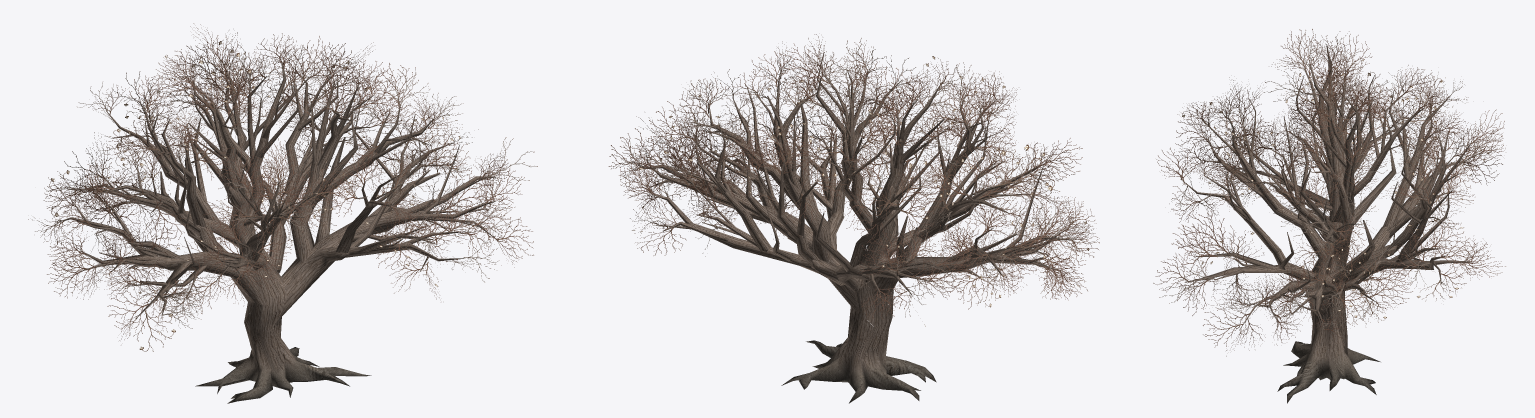
File: Triadica_Winter_LOD2.glb
The picture shows the model from 3 angles, left to right: view 1: azimuth 30°, elevation 25°; view 2: azimuth 150°, elevation 25°; view 3: azimuth 270°, elevation 25°; orthographic projection. The views are drawn at different scales.
Visible parts, largest first — view 1: Triadica_Winter_Shoots_LOD2, Triadica_Wood_LOD2; view 2: Triadica_Winter_Shoots_LOD2, Triadica_Wood_LOD2; view 3: Triadica_Winter_Shoots_LOD2, Triadica_Wood_LOD2.
Part boxes in pixels (x1=…): Triadica_Winter_Shoots_LOD2: x1=28, y1=23, x2=537, y2=351; Triadica_Wood_LOD2: x1=56, y1=59, x2=498, y2=403; Triadica_Winter_Shoots_LOD2: x1=608, y1=34, x2=1099, y2=326; Triadica_Wood_LOD2: x1=643, y1=54, x2=1076, y2=403; Triadica_Winter_Shoots_LOD2: x1=1153, y1=29, x2=1505, y2=356; Triadica_Wood_LOD2: x1=1180, y1=44, x2=1480, y2=403.
Size of the model in its own units: 17.09 by 11.62 by 12.55.
2 materials, 2 textured.
